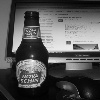beer: (14, 10, 53, 100)
